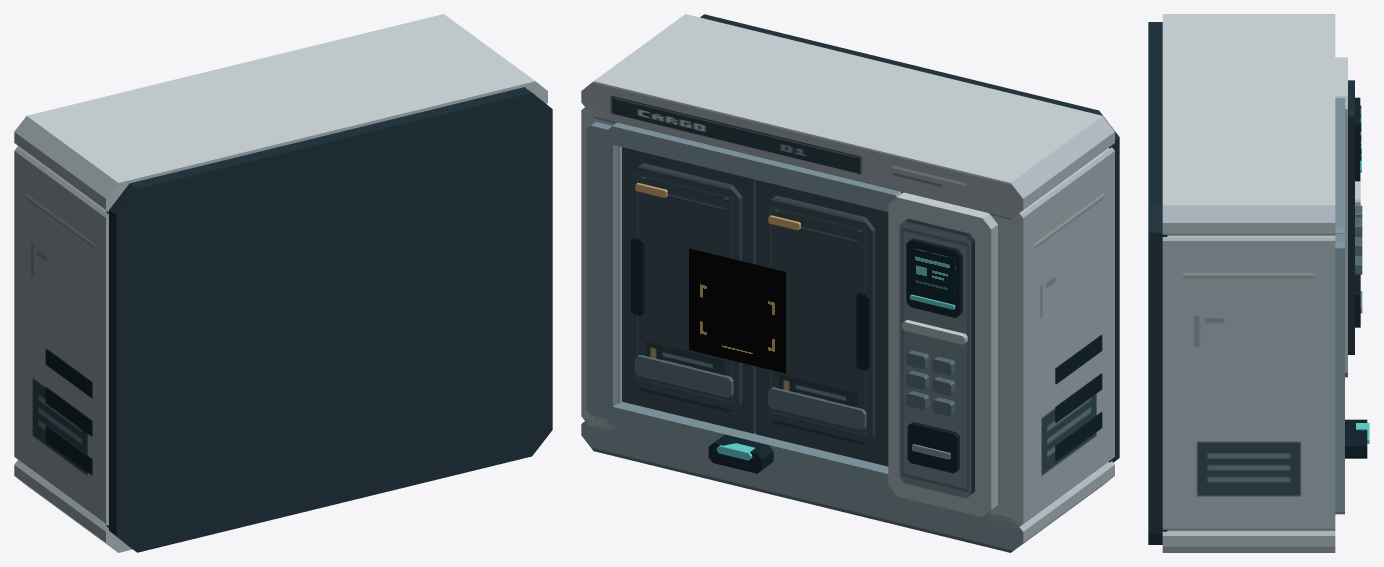
The model's file is ship_locker_complete.obj.
The picture shows the model from 3 angles, left to right: view 1: azimuth 30°, elevation 25°; view 2: azimuth 150°, elevation 25°; view 3: azimuth 270°, elevation 25°; orthographic projection. The views are drawn at different scales.
Parts seen in each view (by area): view 1: wall_mounting_plate_0, upper_shell_2, right_shell_5, lower_shell_3, right_side_vent_4_3_29, right_side_vent_5_55_30, right_side_vent_6_8_31; view 2: upper_shell_2, right_shell_5, door_inset_1_39, door_inset_0_33, lower_shell_3, console_chassis_9, console_face_10, fixed_hologram_frame_44, left_rim_8, right_sliding_door_38, left_sliding_door_32, upper_door_guide_6 (+15 smaller); view 3: left_shell_4, upper_shell_2, wall_mounting_plate_0, lower_shell_3, left_rim_8, console_face_10, console_chassis_9, upper_door_guide_6, hologram_projector_socket_27, status_screen_well_11, reader_recess_21.
Part boxes in pixels (x1,y1,x2,y2): wall_mounting_plate_0: (106, 87, 552, 552); upper_shell_2: (14, 14, 547, 211); right_shell_5: (14, 146, 108, 525); lower_shell_3: (14, 460, 132, 552); right_side_vent_4_3_29: (45, 425, 92, 474); right_side_vent_5_55_30: (45, 387, 92, 436); right_side_vent_6_8_31: (45, 348, 92, 397); upper_shell_2: (581, 14, 1114, 219); right_shell_5: (990, 147, 1114, 528); door_inset_1_39: (764, 195, 875, 444); door_inset_0_33: (631, 163, 742, 412); lower_shell_3: (581, 416, 1114, 552); console_chassis_9: (888, 192, 997, 517); console_face_10: (899, 218, 974, 498); fixed_hologram_frame_44: (689, 248, 785, 373); left_rim_8: (586, 122, 617, 419); right_sliding_door_38: (755, 180, 888, 466); left_sliding_door_32: (622, 147, 755, 433); upper_door_guide_6: (608, 122, 901, 211); left_shell_4: (1162, 235, 1335, 530); upper_shell_2: (1162, 14, 1335, 235); wall_mounting_plate_0: (1148, 22, 1167, 544); lower_shell_3: (1162, 530, 1335, 552); left_rim_8: (1335, 233, 1344, 514); console_face_10: (1348, 80, 1354, 354); console_chassis_9: (1335, 57, 1347, 377); upper_door_guide_6: (1335, 98, 1344, 233); hologram_projector_socket_27: (1345, 419, 1367, 458); status_screen_well_11: (1355, 97, 1360, 181); reader_recess_21: (1355, 274, 1360, 327).
Size of the model in its own units: 0.9394 by 0.75 by 0.4331.
